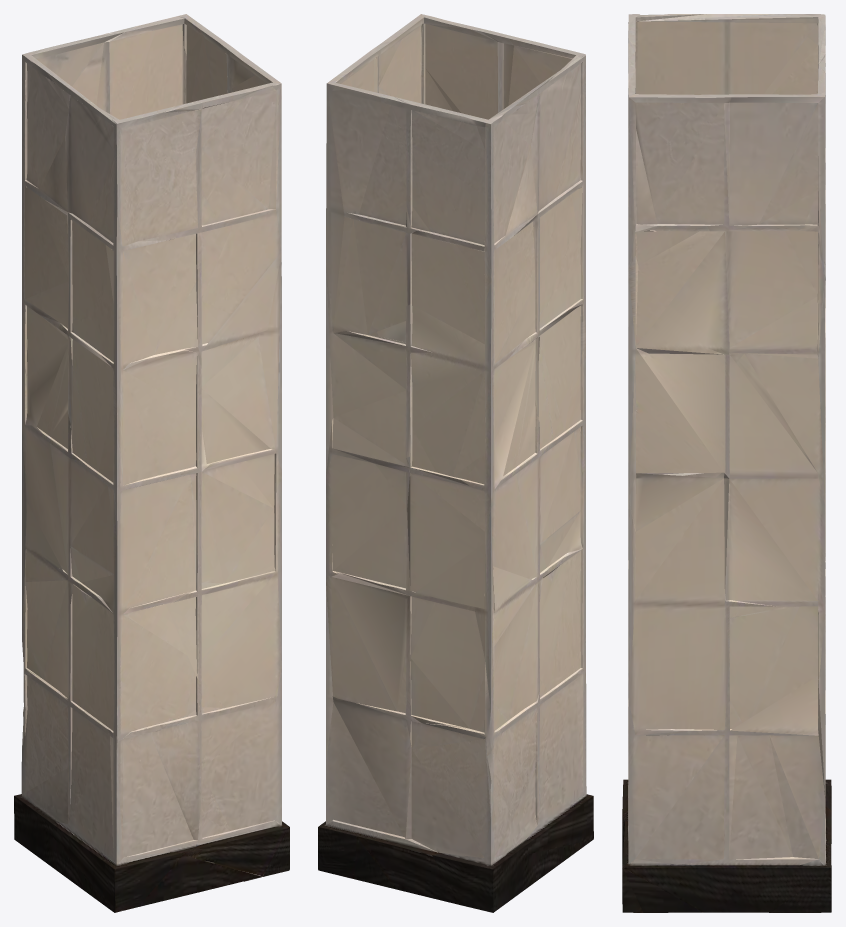
Rendered from floor_lamp_paper.glb.
3 renders of one model, left to right at view 1: azimuth 30°, elevation 25°; view 2: azimuth 150°, elevation 25°; view 3: azimuth 270°, elevation 25°, orthographic. The views are drawn at different scales.
Visible parts, largest first — view 1: 0; view 2: 0; view 3: 0.
Boxes of the visible parts, bbox=[...] form: 0: bbox=[14, 14, 289, 912]; 0: bbox=[318, 14, 593, 912]; 0: bbox=[622, 14, 831, 912].
Bounding box in the file's own units: 0.35 × 1.5 × 0.35.
1 material, 1 textured.
